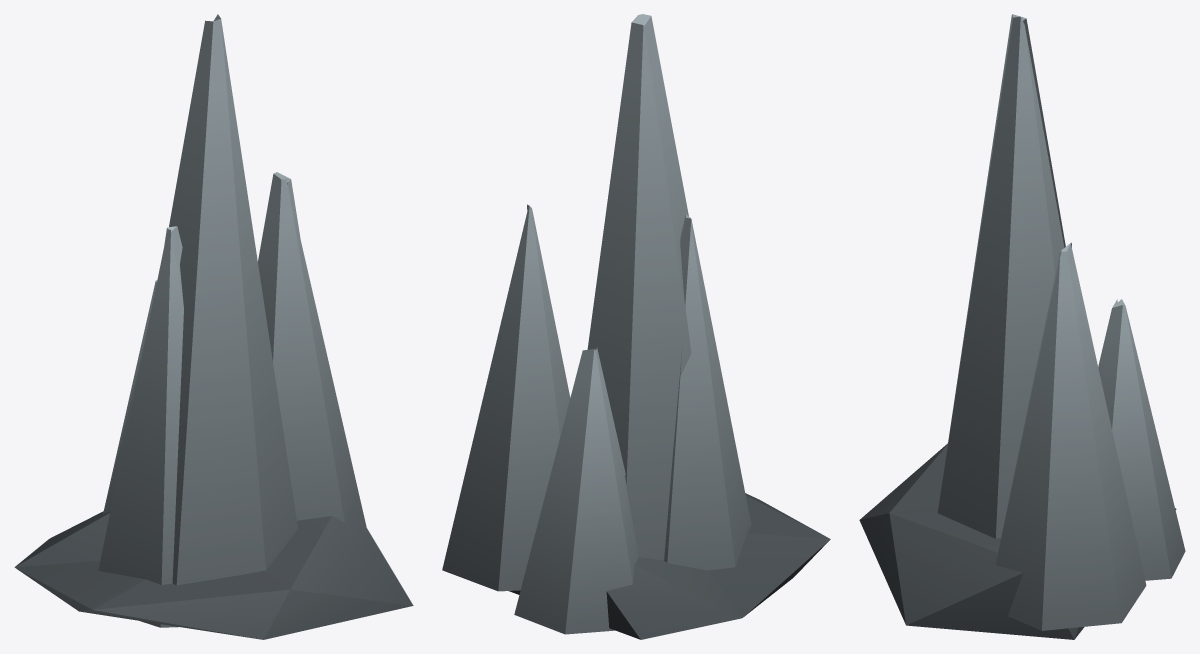
File: stalagmite_a.glb
The picture shows the model from 3 angles, left to right: view 1: azimuth 30°, elevation 25°; view 2: azimuth 150°, elevation 25°; view 3: azimuth 270°, elevation 25°; orthographic projection. The views are drawn at different scales.
Parts seen in each view (by area): view 1: stalagmite_a; view 2: stalagmite_a; view 3: stalagmite_a.
Boxes of the visible parts, <box> form: stalagmite_a: <box>14,14,413,639</box>; stalagmite_a: <box>442,14,830,639</box>; stalagmite_a: <box>859,14,1185,639</box>.
Bounding box in the file's own units: 1.38 × 2.43 × 1.28.
1 material, 1 textured.
